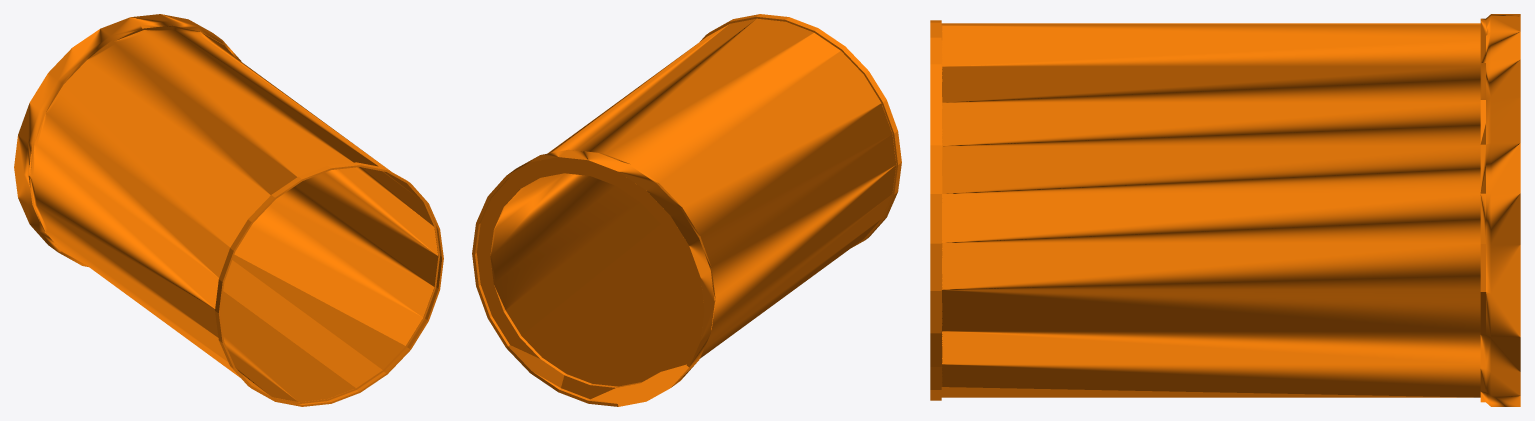
File: model_align.obj
3 views of the same model, side by side, from view 1: azimuth 30°, elevation 25°; view 2: azimuth 150°, elevation 25°; view 3: azimuth 270°, elevation 25° (orthographic). The views are drawn at different scales.
Size of the model in its own units: 0.0728 by 0.0728 by 0.1089.
